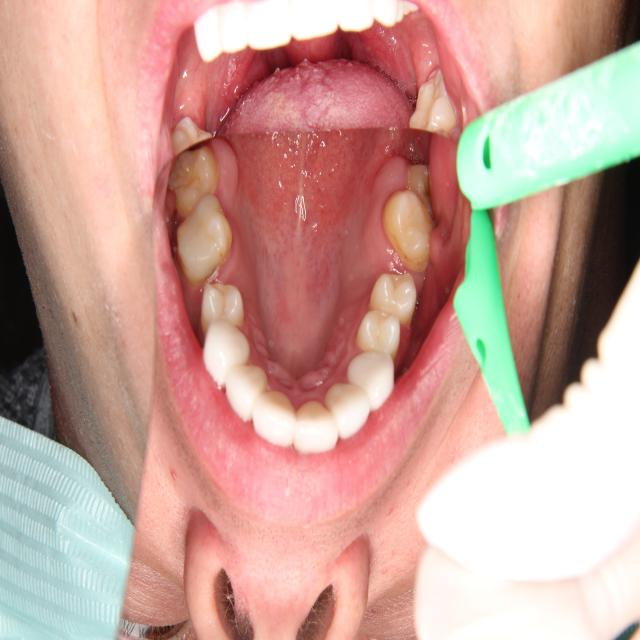tooth: (172, 186, 235, 287), (380, 184, 439, 279), (161, 139, 224, 223), (194, 271, 253, 348), (198, 315, 253, 395), (221, 348, 272, 428), (252, 375, 299, 461), (343, 344, 397, 415), (365, 263, 419, 334), (321, 378, 373, 444), (354, 300, 404, 363), (294, 393, 340, 459), (403, 159, 442, 227)
